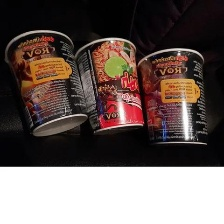paper_cup: (0, 25, 91, 140), (131, 41, 215, 150), (69, 33, 150, 139)
